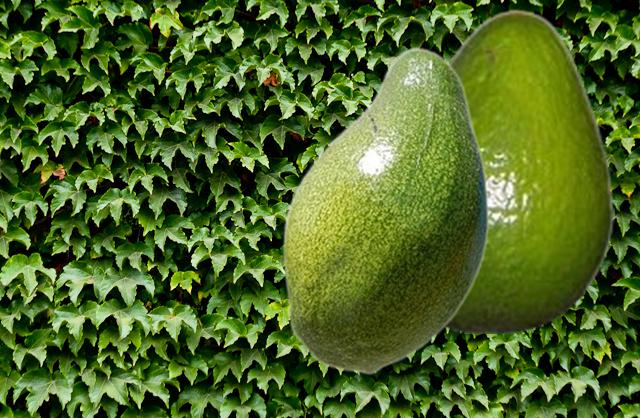avocado: (282, 46, 489, 374), (443, 8, 613, 332)
